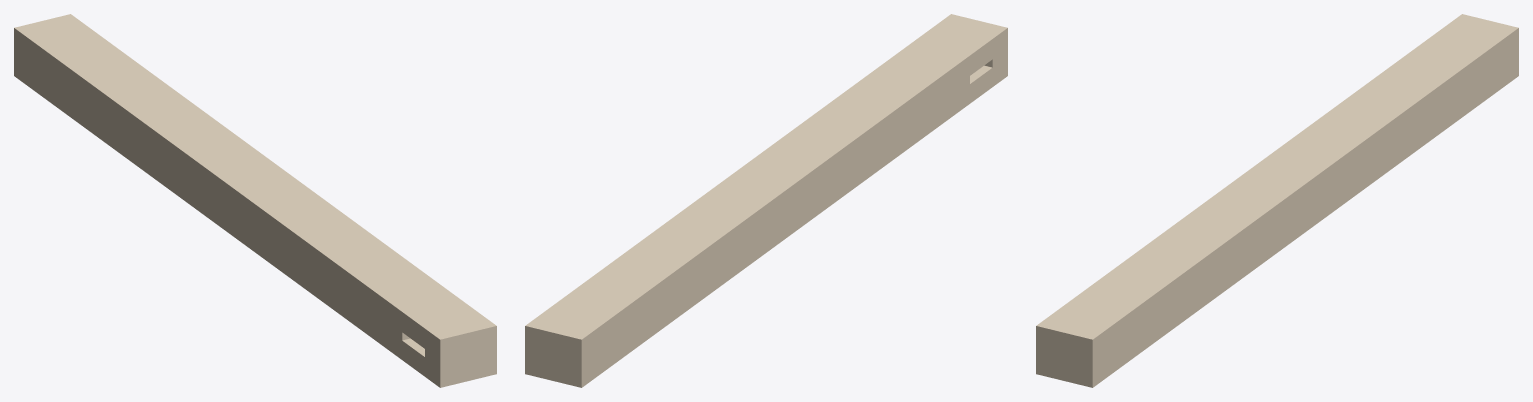
Rendered from original-59.obj.
The picture shows the model from 3 angles, left to right: view 1: azimuth 30°, elevation 25°; view 2: azimuth 150°, elevation 25°; view 3: azimuth 330°, elevation 25°; orthographic projection.
Visible parts, largest first — view 1: lower_doubler2/lower_doubler/mesh61/mesh61-geometry#mesh61-geome; view 2: lower_doubler2/lower_doubler/mesh61/mesh61-geometry#mesh61-geome; view 3: lower_doubler2/lower_doubler/mesh61/mesh61-geometry#mesh61-geome.
Part boxes in pixels (<box>): lower_doubler2/lower_doubler/mesh61/mesh61-geometry#mesh61-geome: <box>14,14,496,387</box>; lower_doubler2/lower_doubler/mesh61/mesh61-geometry#mesh61-geome: <box>525,14,1007,387</box>; lower_doubler2/lower_doubler/mesh61/mesh61-geometry#mesh61-geome: <box>1036,14,1518,387</box>.
Bounding box in the file's own units: 0.0436 × 0.0355 × 0.5681.
